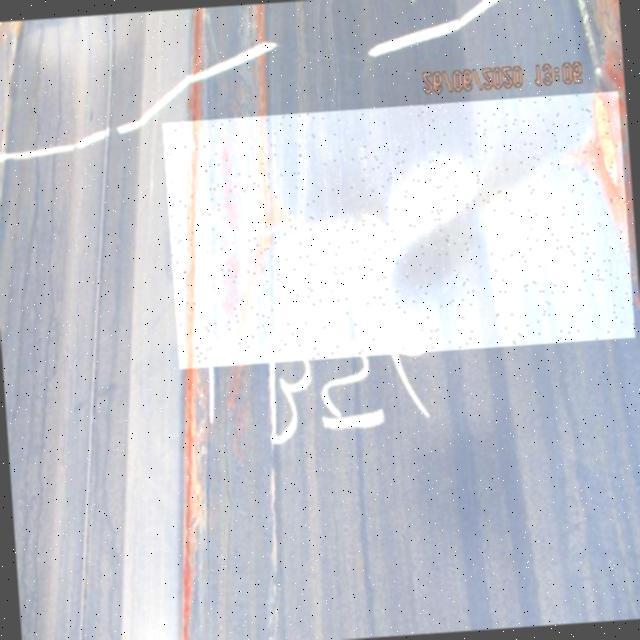Minor-Dent: (162, 91, 635, 369)
